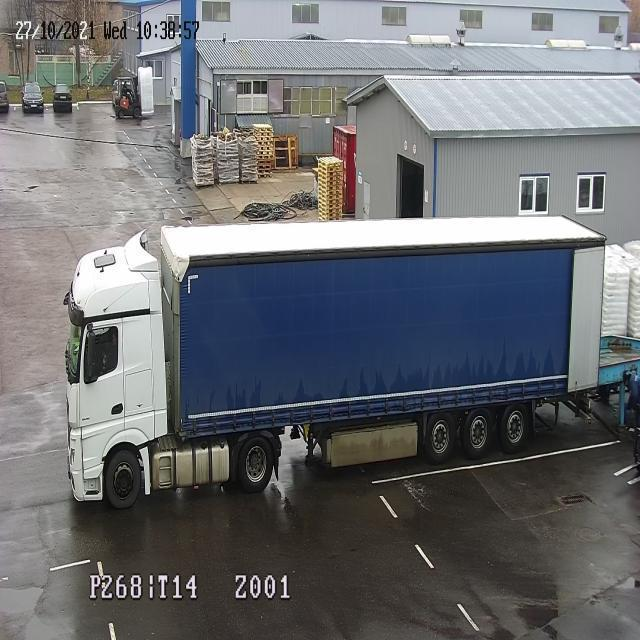car: (22, 80, 45, 114), (53, 83, 74, 112)
forklift: (116, 73, 142, 122)
truck: (61, 227, 177, 512)
